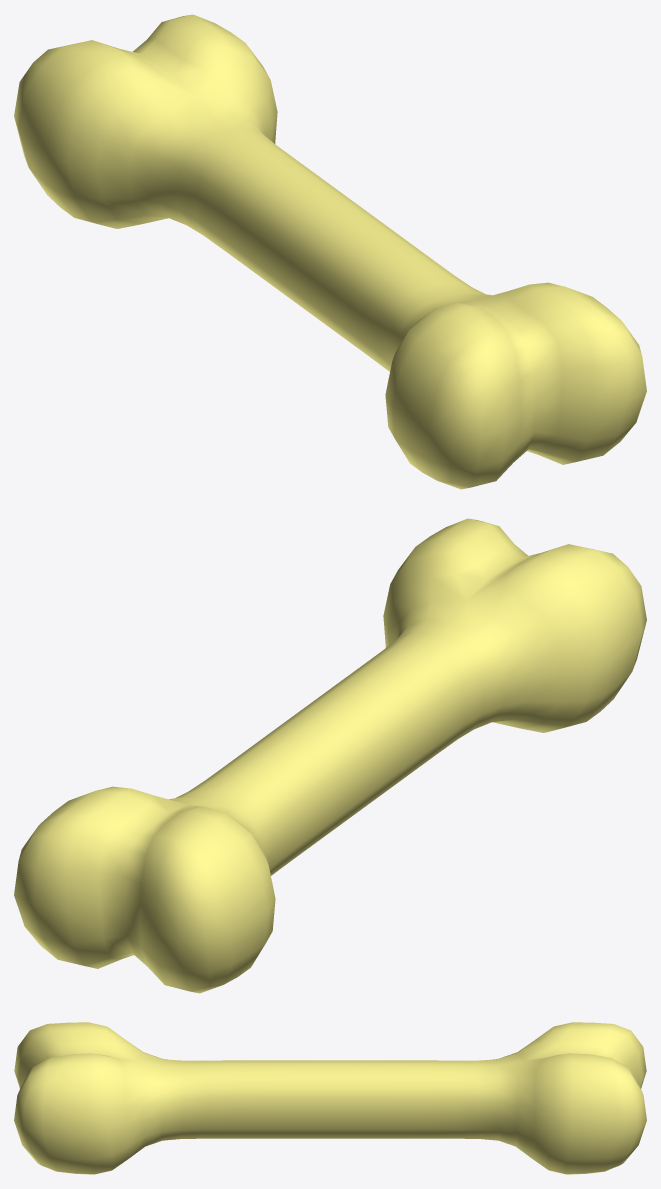
Rendered from Hueso_coleccionable.fbx.
3 renders of one model, top to bottom at view 1: azimuth 30°, elevation 25°; view 2: azimuth 150°, elevation 25°; view 3: azimuth 270°, elevation 25°, orthographic. The views are drawn at different scales.
Parts seen in each view (by area): view 1: HUESOS .001; view 2: HUESOS .001; view 3: HUESOS .001.
Boxes of the visible parts, x1,y1,x2,y2 form: HUESOS .001: (14,14,646,489); HUESOS .001: (14,518,646,993); HUESOS .001: (14,1022,646,1174).
Size of the model in its own units: 139 by 96.03 by 491.
